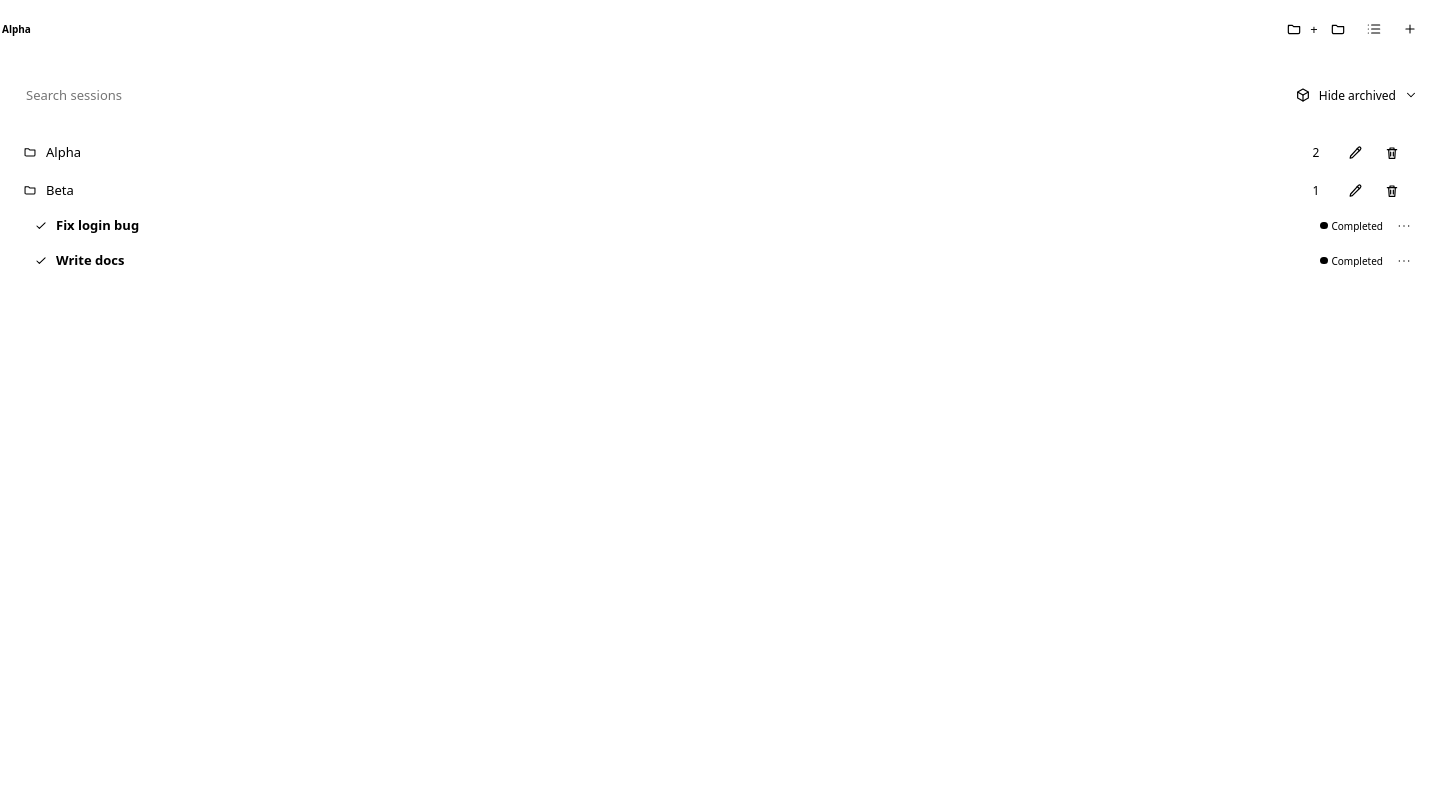
Test: SessionDrawer › keeps list controls usable when browser storage is unavailable
Step 1. Click the button named "Sort sessions by last updated" → [1374, 29], box [1358,13,1390,45]
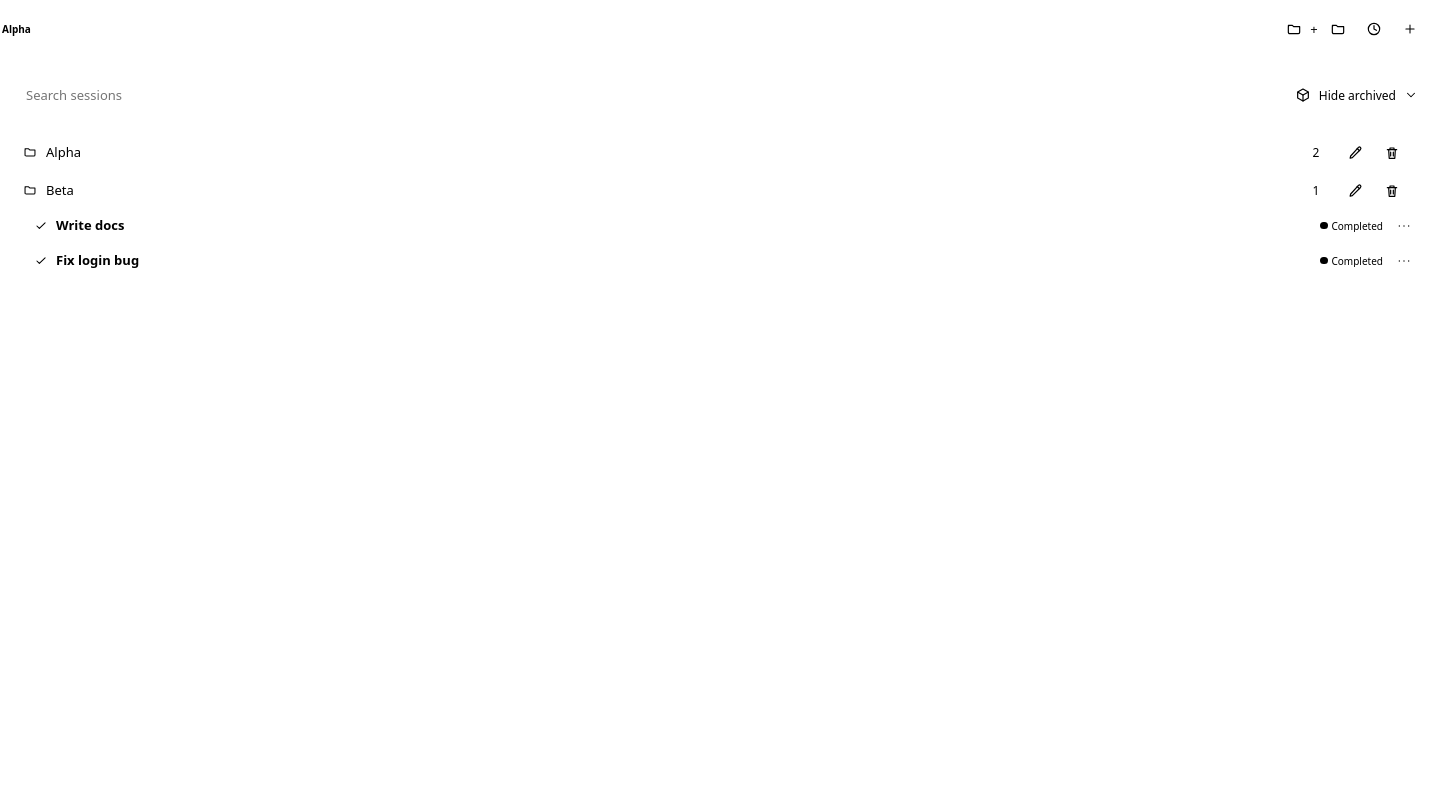
Step 2. Click the button named "Show grouped workspaces" → [1338, 29], box [1322,13,1354,45]
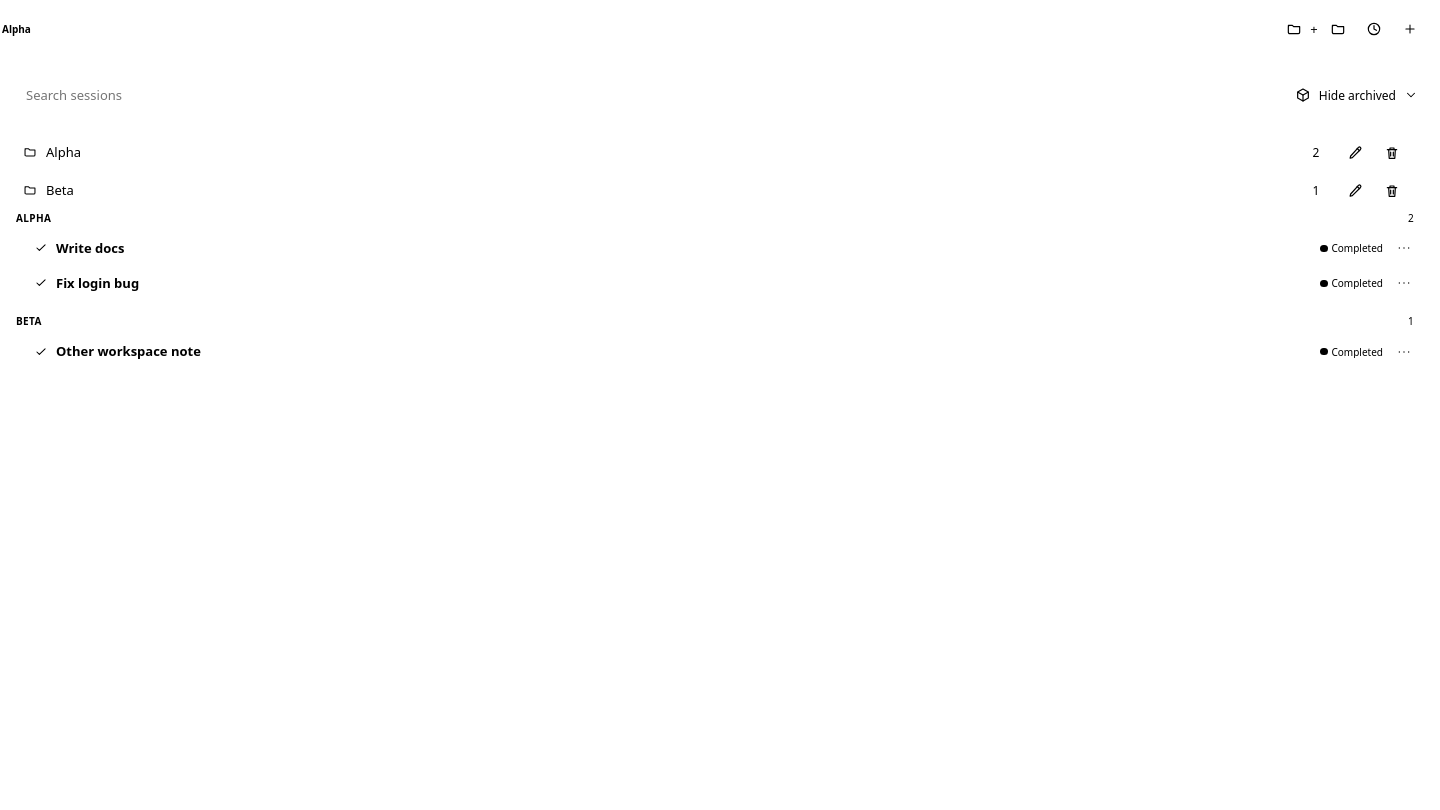
Expected: the button named "Sort sessions by manual order" is shown, [1358,13,1390,45]
Expected: the text "Other workspace note" is shown, [56,342,201,360]
